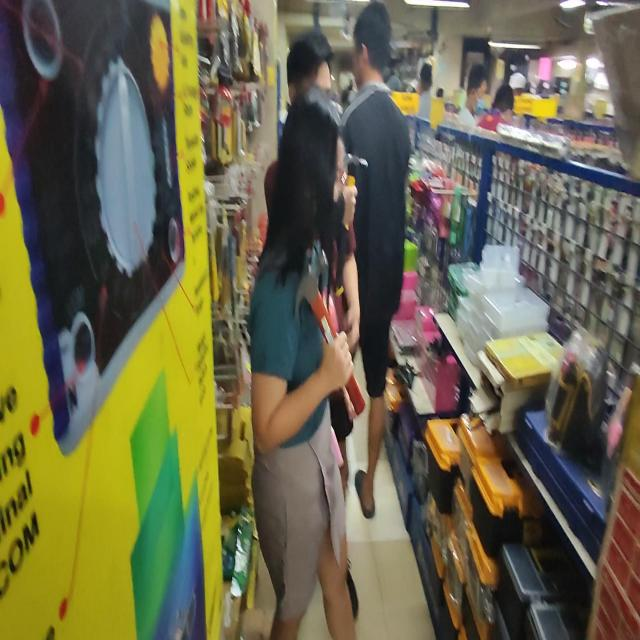hammer: (295, 249, 365, 416)
